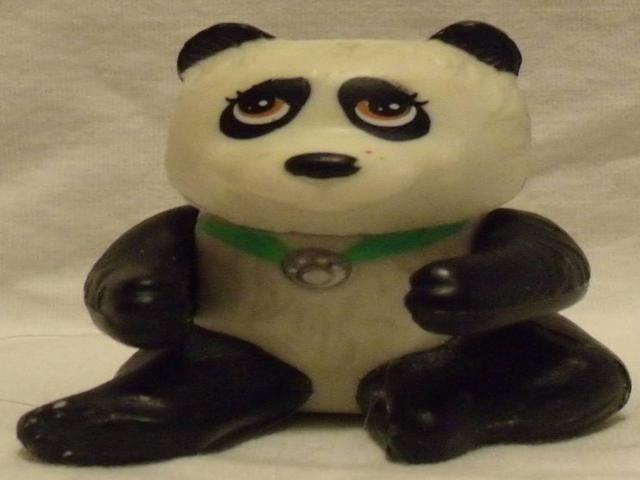panda: (18, 13, 616, 454)
